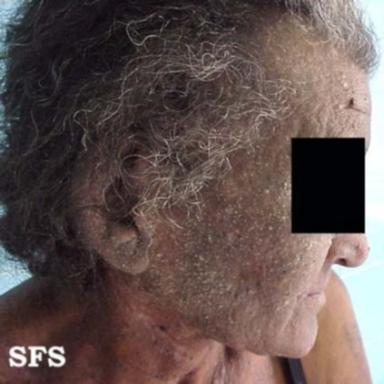Darier_s-Disease: (82, 21, 370, 357)
